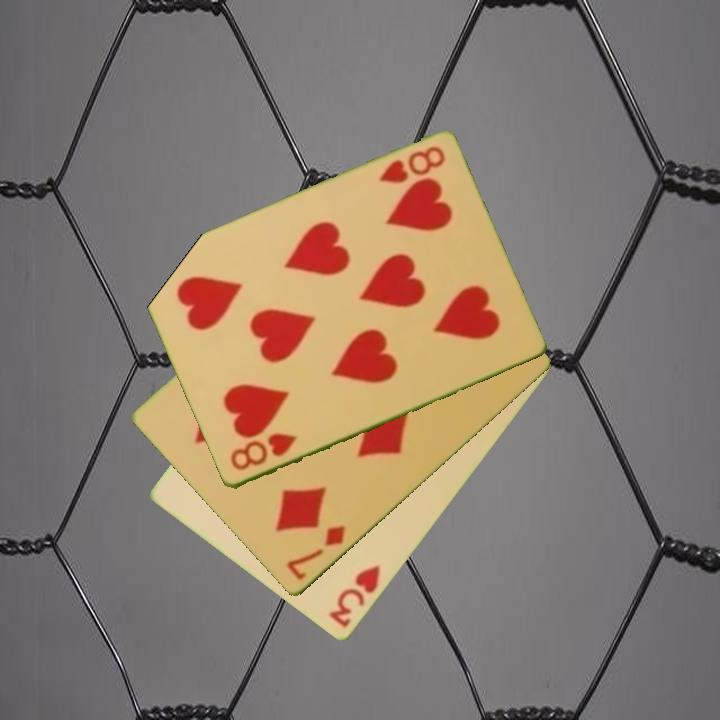3h: (325, 562, 384, 631)
7d: (283, 522, 349, 584)
8h: (226, 430, 301, 475), (375, 143, 448, 187)
